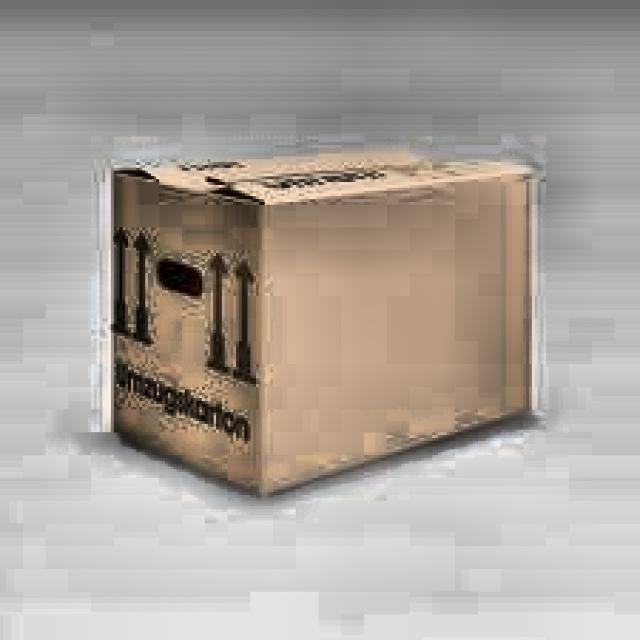cardboard: (102, 148, 535, 498)
